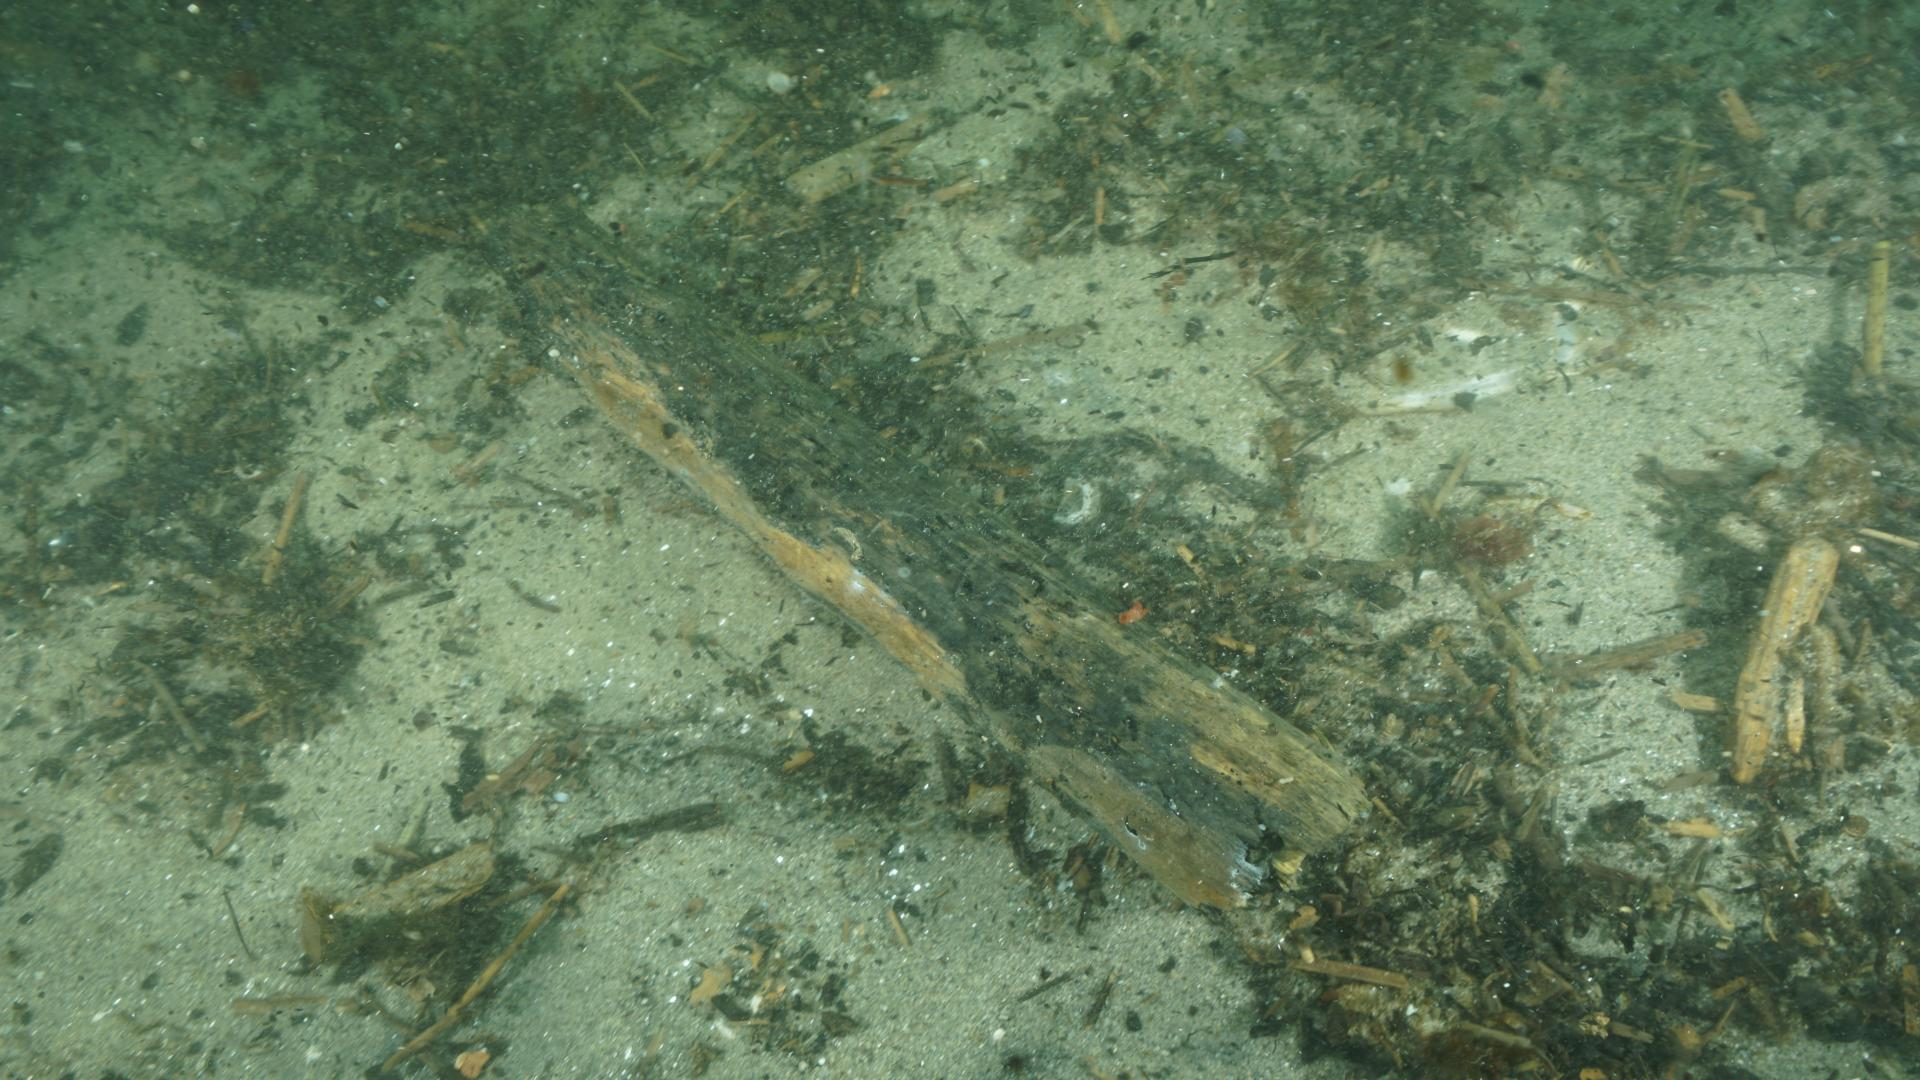wood: (538, 266, 1381, 915)
